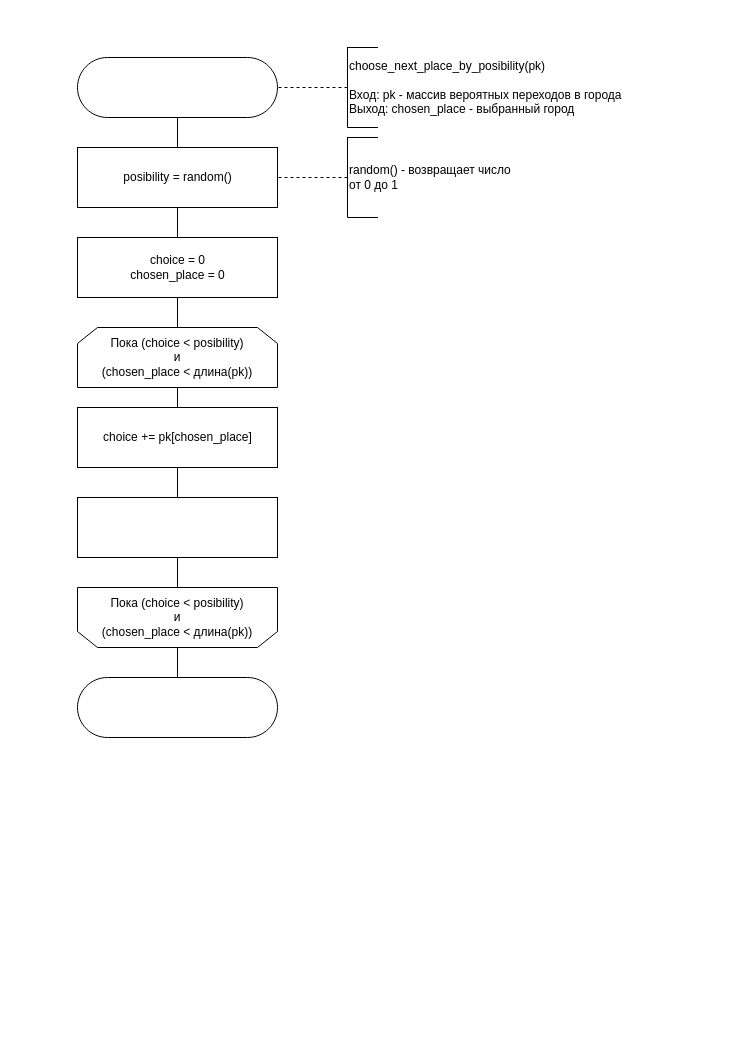
Image size: 744x1064. Some labels were removed from this diagram. The centre of each missing label's shape, as x and y in pixels:
"chosen_place += 1" goes at [177,527].
"Конец" goes at [177,707].
"Начало" goes at [177,87].
